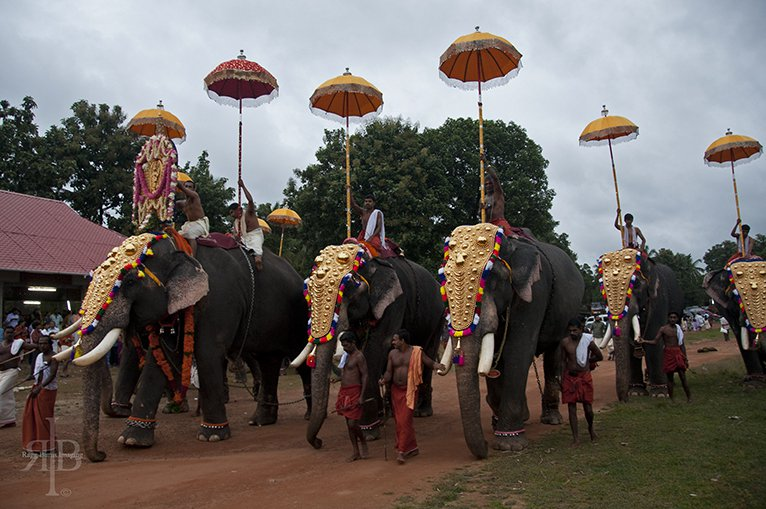Indian Elephant: (51, 230, 310, 458), (420, 209, 595, 462), (285, 234, 447, 455), (588, 243, 687, 414), (706, 252, 766, 379)
